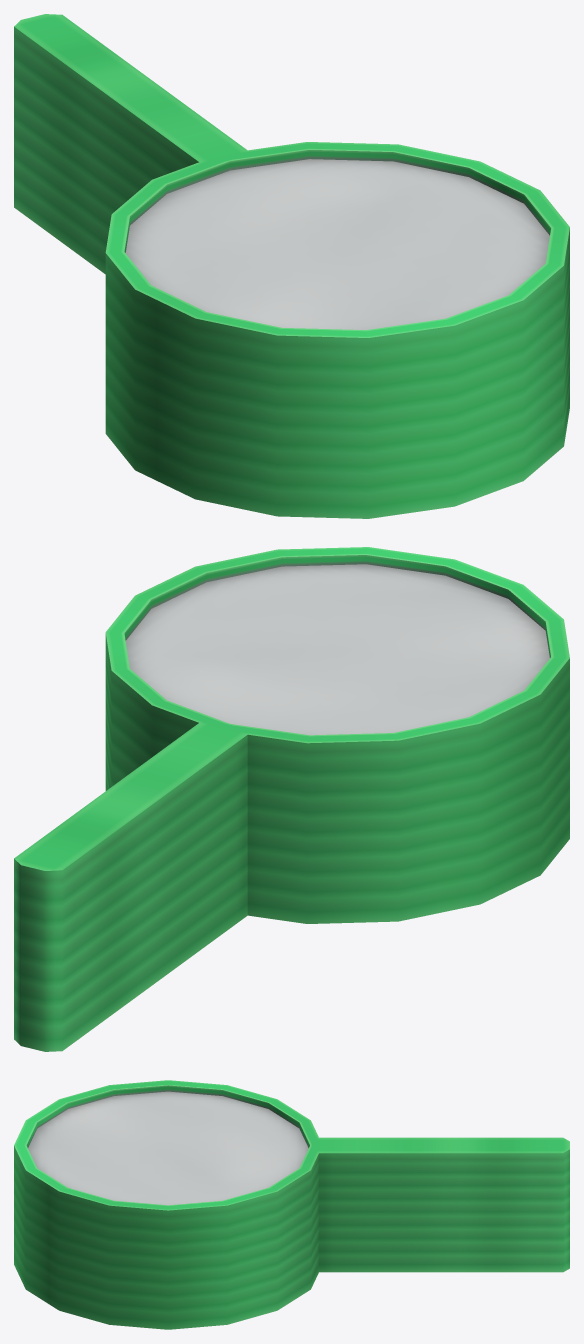
File: jsf_Poi_01_sat.fbx
3 views of the same model, one above another, from view 1: azimuth 30°, elevation 25°; view 2: azimuth 150°, elevation 25°; view 3: azimuth 270°, elevation 25° (orthographic). The views are drawn at different scales.
Parts seen in each view (by area): view 1: jsf_Poi_01_sat; view 2: jsf_Poi_01_sat; view 3: jsf_Poi_01_sat.
Boxes of the visible parts, box(x1,y1,x2,y2) form: jsf_Poi_01_sat: box(14, 14, 569, 518); jsf_Poi_01_sat: box(14, 547, 569, 1051); jsf_Poi_01_sat: box(14, 1080, 569, 1329).
Bounding box in the file's own units: 8.21 × 3.5 × 14.79.
